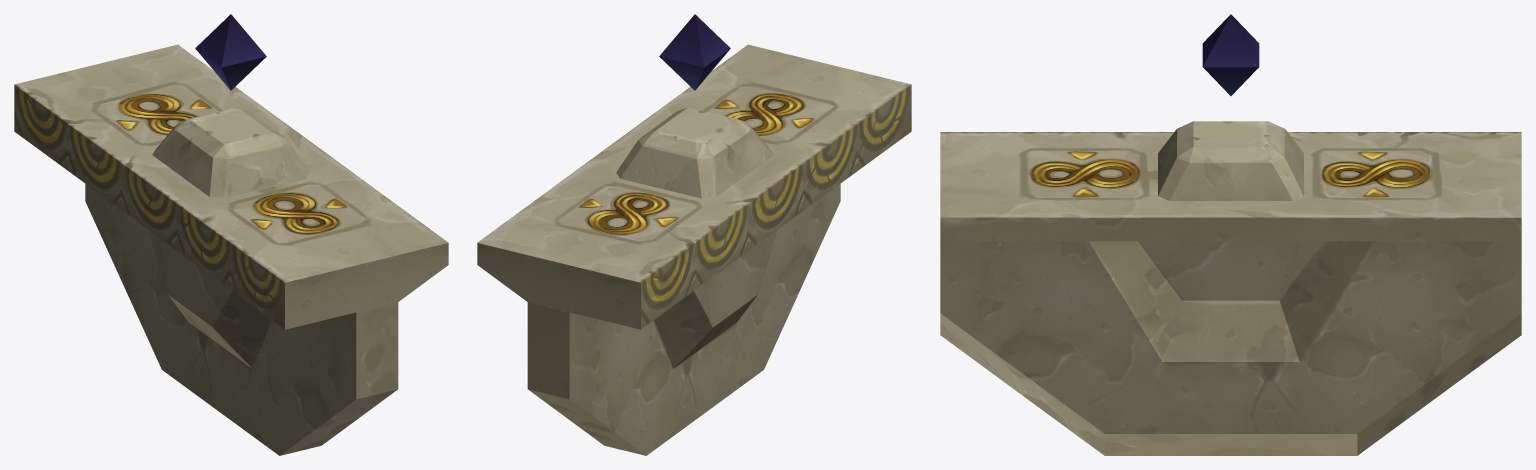
The model's file is sidecover_01_short.FBX.
3 renders of one model, left to right at view 1: azimuth 30°, elevation 25°; view 2: azimuth 150°, elevation 25°; view 3: azimuth 270°, elevation 25°, orthographic. The views are drawn at different scales.
Parts seen in each view (by area): view 1: Sidecover_Short, crystal_3; view 2: Sidecover_Short, crystal_3; view 3: Sidecover_Short, crystal_3.
Boxes of the visible parts, x1,y1,x2,y2 form: Sidecover_Short: (14, 44, 448, 455); crystal_3: (195, 14, 266, 90); Sidecover_Short: (477, 44, 911, 455); crystal_3: (659, 14, 730, 90); Sidecover_Short: (940, 121, 1521, 455); crystal_3: (1202, 14, 1259, 95).
Bounding box in the file's own units: 69.8 × 161 × 200.
